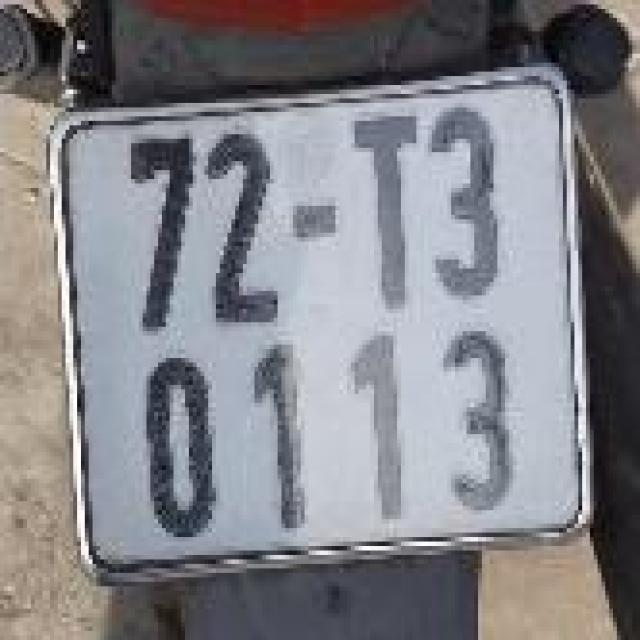0: (138, 354, 224, 546)
1: (345, 324, 438, 553), (250, 345, 324, 537)
2: (204, 121, 293, 336)
3: (436, 322, 532, 524), (434, 100, 514, 306)
7: (108, 114, 204, 334)
T: (349, 103, 434, 304)
